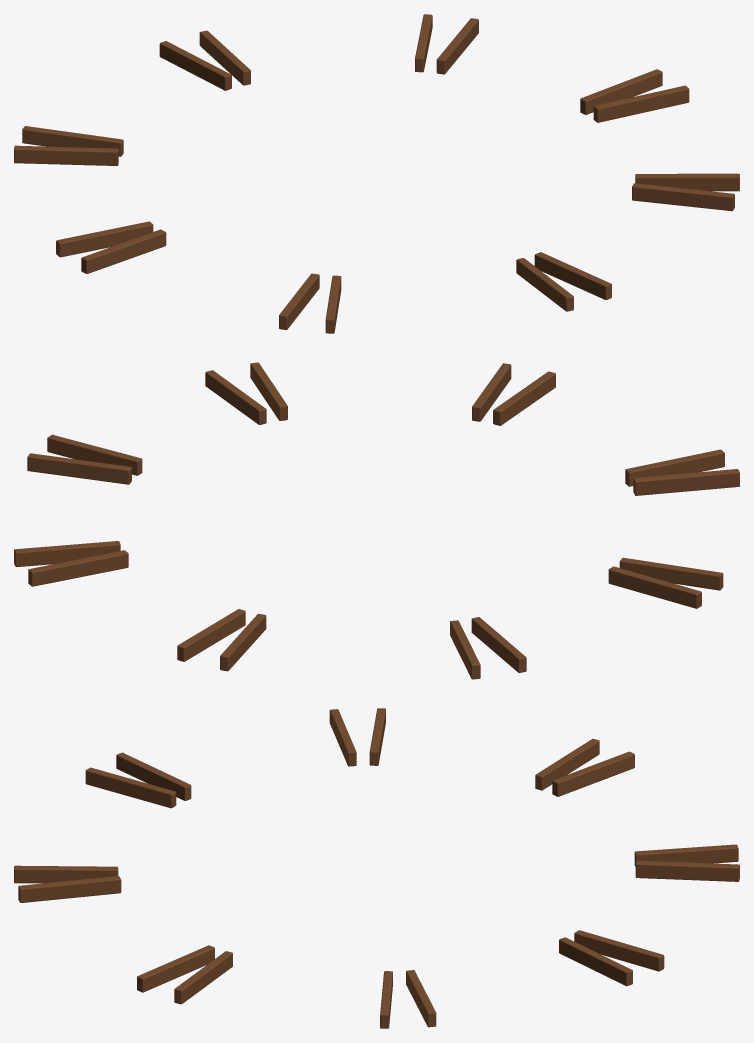
File: ev_core_r11_coils.glb
3 views of the same model, one above another, from view 1: azimuth 30°, elevation 25°; view 2: azimuth 150°, elevation 25°; view 3: azimuth 270°, elevation 25° (orthographic). The views are drawn at different scales.
Visible parts, largest first — view 1: CoilBar_3_1, CoilBar_7_0, CoilBar_0_0, CoilBar_4_0, CoilBar_4_1, CoilBar_7_1, CoilBar_3_0, CoilBar_6_1, CoilBar_0_1, CoilBar_2_1, CoilBar_6_0, CoilBar_2_0 (+4 smaller); view 2: CoilBar_5_0, CoilBar_0_1, CoilBar_1_1, CoilBar_4_0, CoilBar_4_1, CoilBar_1_0, CoilBar_5_1, CoilBar_0_0, CoilBar_2_0, CoilBar_6_0, CoilBar_7_1, CoilBar_3_1 (+4 smaller); view 3: CoilBar_2_0, CoilBar_6_1, CoilBar_5_1, CoilBar_1_1, CoilBar_6_0, CoilBar_2_1, CoilBar_3_0, CoilBar_7_0, CoilBar_1_0, CoilBar_5_0, CoilBar_3_1, CoilBar_7_1 (+4 smaller).
Boxes of the visible parts, x1,y1,x2,y2 form: CoilBar_3_1: (14,145,118,165); CoilBar_7_0: (632,183,734,211); CoilBar_0_0: (593,85,689,122); CoilBar_4_0: (56,221,153,257); CoilBar_4_1: (81,229,166,273); CoilBar_7_1: (635,173,739,191); CoilBar_3_0: (22,126,123,156); CoilBar_6_1: (534,252,611,299); CoilBar_0_1: (580,69,662,114); CoilBar_2_1: (159,41,231,90); CoilBar_6_0: (516,258,573,311); CoilBar_2_0: (199,30,250,85); CoilBar_5_0: (633,469,739,495); CoilBar_0_1: (27,453,131,484); CoilBar_1_1: (28,550,128,586); CoilBar_4_0: (608,566,701,608); CoilBar_4_1: (619,557,723,590); CoilBar_1_0: (14,541,120,567); CoilBar_5_1: (625,449,724,486); CoilBar_0_0: (47,434,142,475); CoilBar_2_0: (177,609,245,661); CoilBar_6_0: (493,371,555,425); CoilBar_7_1: (205,370,266,424); CoilBar_3_1: (471,617,526,672); CoilBar_2_0: (635,860,739,881); CoilBar_6_1: (18,876,121,902); CoilBar_5_1: (85,767,176,808); CoilBar_1_1: (574,930,664,971); CoilBar_6_0: (14,865,118,883); CoilBar_2_1: (634,844,738,866); CoilBar_3_0: (552,751,634,796); CoilBar_7_0: (137,945,214,992); CoilBar_1_0: (559,937,632,986); CoilBar_5_0: (116,752,191,800); CoilBar_3_1: (535,738,599,790); CoilBar_7_1: (174,951,232,1004).
Bounding box in the file's own units: 6.42 × 0.14 × 6.42.
